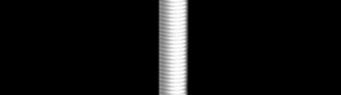Cigarette: (153, 0, 189, 95)
